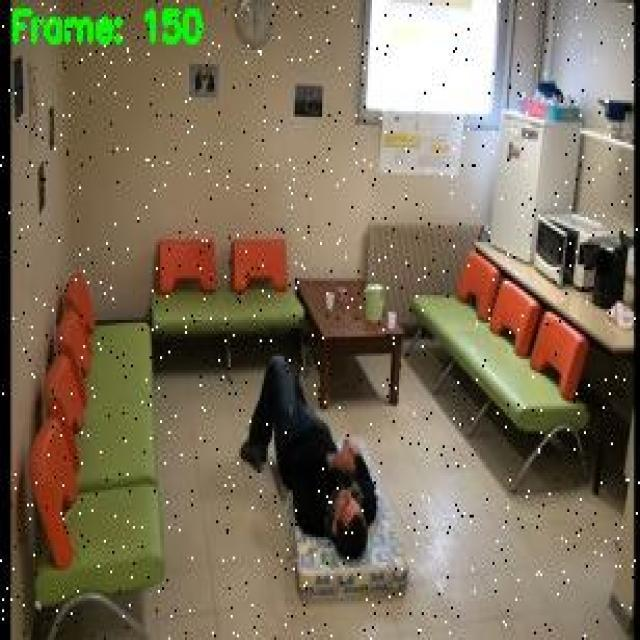fall: (234, 350, 379, 565)
